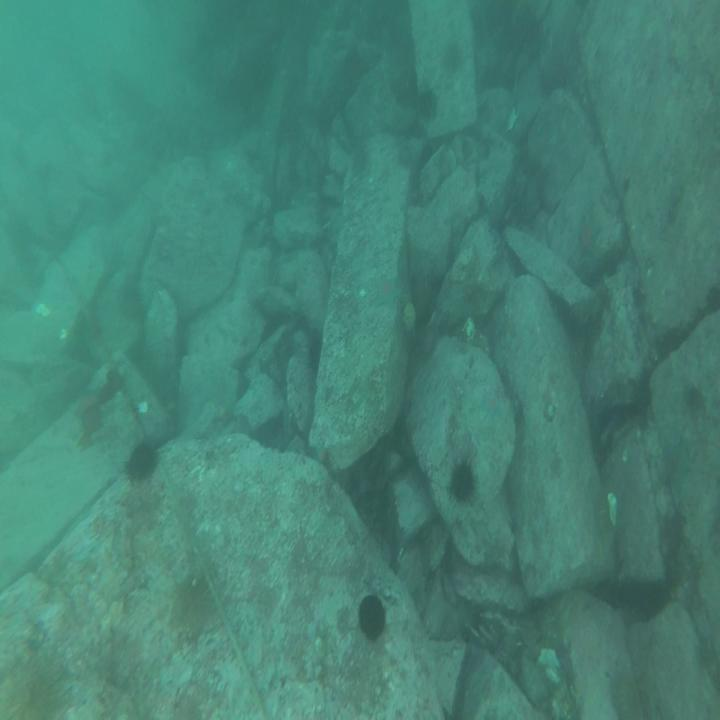echinus: (356, 591, 388, 639), (449, 461, 480, 505), (127, 441, 155, 476), (77, 407, 104, 439), (419, 89, 437, 123)
